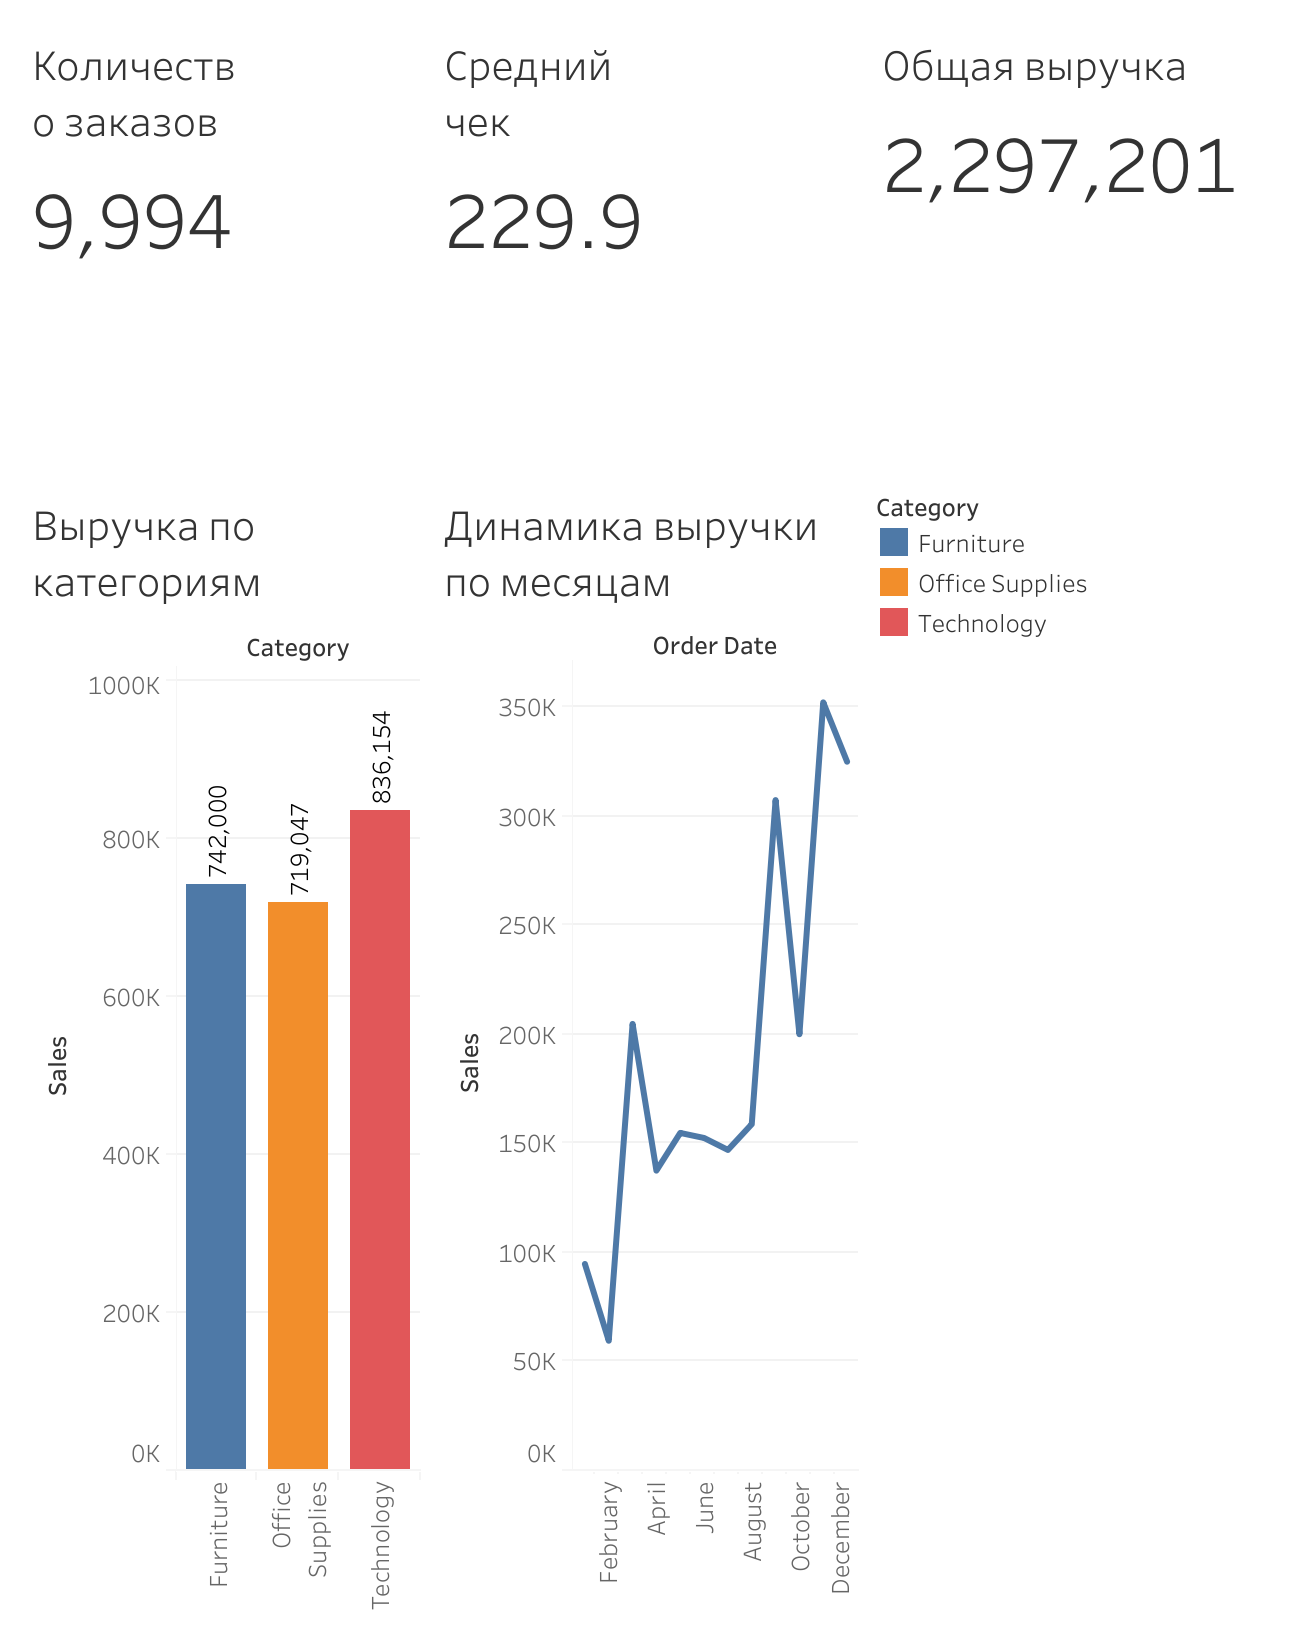

Layout of this report page (visuals, bound fields, positions):
{"tool":"tableau","page":{"name":"Dashboard 1","canvas":[650,860],"ordinal":0},"visuals":[{"type":"worksheet","title":"Sheet 5","mark":"Text","box":[8,8,206.2,239]},{"type":"worksheet","title":"Sheet 4","mark":"Text","box":[214.2,8,218.8,239]},{"type":"worksheet","title":"Sheet 3","mark":"Text","box":[433,8,209,239]},{"type":"worksheet","title":"Sheet 1","mark":"Bar","rows":["Sales"],"cols":["Category"],"box":[8,247,205.9,605]},{"type":"worksheet","title":"Sheet 2","mark":"Automatic","rows":["Sales"],"cols":["Order Date"],"box":[213.9,247,219,605]},{"type":"legend","title":"Sheet 1","param":"[federated.1otfyen1hwzdhb15excnw1s2nuww].[none:Category:nk]","box":[433,247,209,605]}]}

Visuals, with their boxes on the page's 650x860 design canvas (x1, y1, x2, y2). These are canvas units, not pixel positions in the 1298x1652 screenshot, which may show the page scaled, cropped or inside an application window:
"Sheet 5" worksheet (Text marks): 8,8,214,247
"Sheet 4" worksheet (Text marks): 214,8,433,247
"Sheet 3" worksheet (Text marks): 433,8,642,247
"Sheet 1" worksheet (Bar marks): 8,247,214,852
"Sheet 2" worksheet: 214,247,433,852
"Sheet 1" legend: 433,247,642,852
